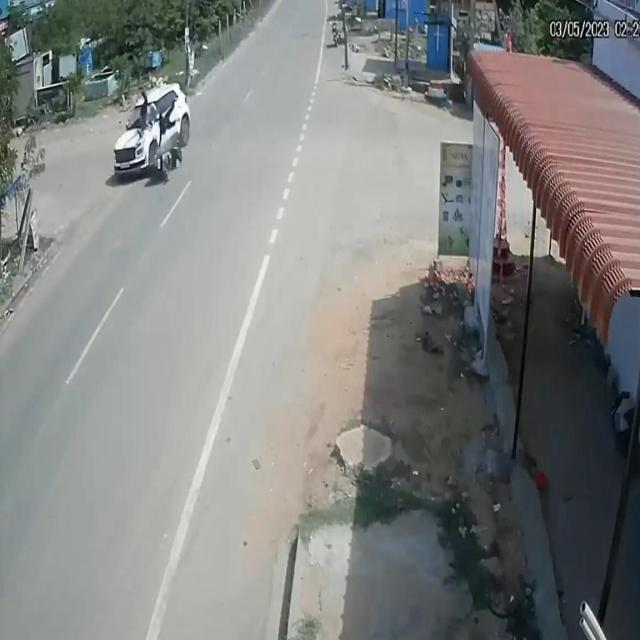accident: (107, 66, 197, 198)
